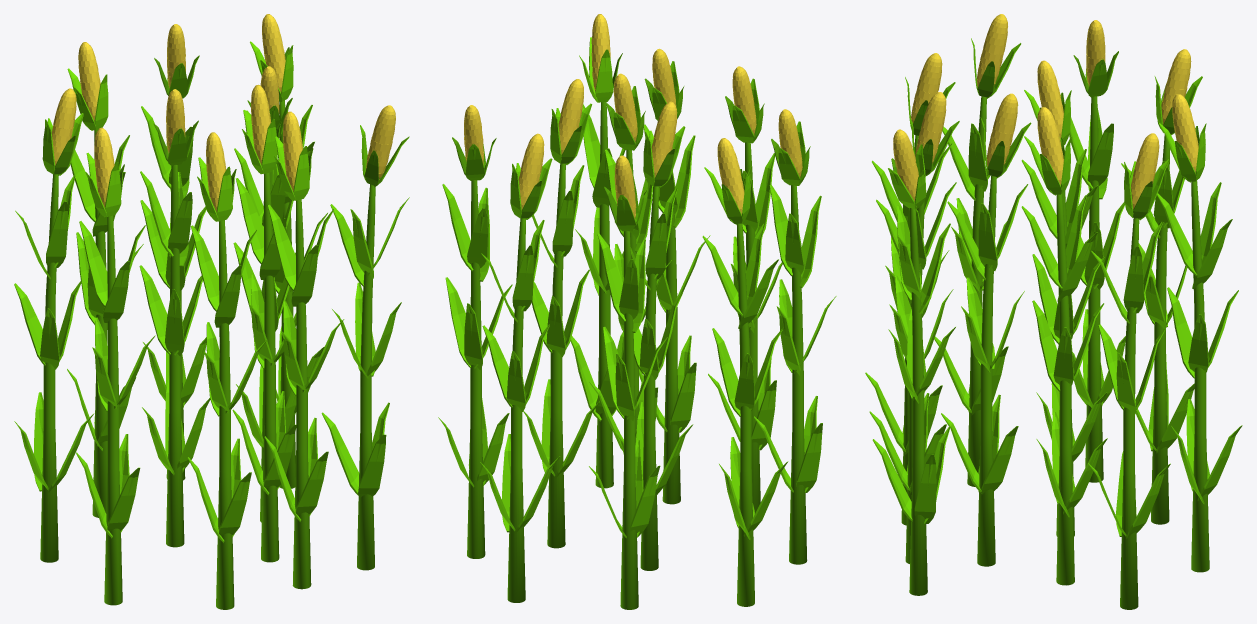
File: Corn4.fbx
3 views of the same model, side by side, from view 1: azimuth 30°, elevation 25°; view 2: azimuth 150°, elevation 25°; view 3: azimuth 270°, elevation 25° (orthographic).
Visible parts, largest first — view 1: Cube.027, Cube.026, Cube.024, Cube.019, Cube.023, Cube.020, Cube.025, Cube.017, Cube.018, Cube.021, Cube.028; view 2: Cube.019, Cube.027, Cube.017, Cube.018, Cube.021, Cube.028, Cube.020, Cube.023, Cube.024, Cube.026, Cube.025; view 3: Cube.018, Cube.021, Cube.023, Cube.025, Cube.028, Cube.019, Cube.017, Cube.027, Cube.020, Cube.024, Cube.026.
Part boxes in pixels (<box>): Cube.027: <box>76,127,155,605</box>; Cube.026: <box>188,132,266,609</box>; Cube.024: <box>264,111,344,589</box>; Cube.019: <box>14,88,94,562</box>; Cube.023: <box>321,105,409,570</box>; Cube.020: <box>139,89,210,547</box>; Cube.025: <box>232,84,296,562</box>; Cube.017: <box>67,42,143,517</box>; Cube.018: <box>140,24,206,480</box>; Cube.021: <box>233,66,296,522</box>; Cube.028: <box>246,14,327,488</box>; Cube.019: <box>702,138,788,606</box>; Cube.027: <box>754,109,836,564</box>; Cube.017: <box>589,155,667,609</box>; Cube.018: <box>480,133,560,602</box>; Cube.021: <box>523,79,599,548</box>; Cube.028: <box>438,105,512,558</box>; Cube.020: <box>613,101,693,570</box>; Cube.023: <box>570,14,625,488</box>; Cube.024: <box>639,48,710,504</box>; Cube.026: <box>708,66,782,513</box>; Cube.025: <box>589,73,671,450</box>; Cube.018: <box>1157,94,1242,572</box>; Cube.021: <box>1021,107,1107,585</box>; Cube.023: <box>872,129,955,595</box>; Cube.025: <box>941,93,1031,566</box>; Cube.028: <box>1088,133,1170,609</box>; Cube.019: <box>1069,20,1125,482</box>; Cube.017: <box>1121,49,1202,524</box>; Cube.027: <box>931,14,1021,486</box>; Cube.020: <box>1021,60,1107,536</box>; Cube.024: <box>869,92,959,563</box>; Cube.026: <box>865,53,955,525</box>.
Size of the model in its own units: 45.7 by 61.72 by 44.89.
